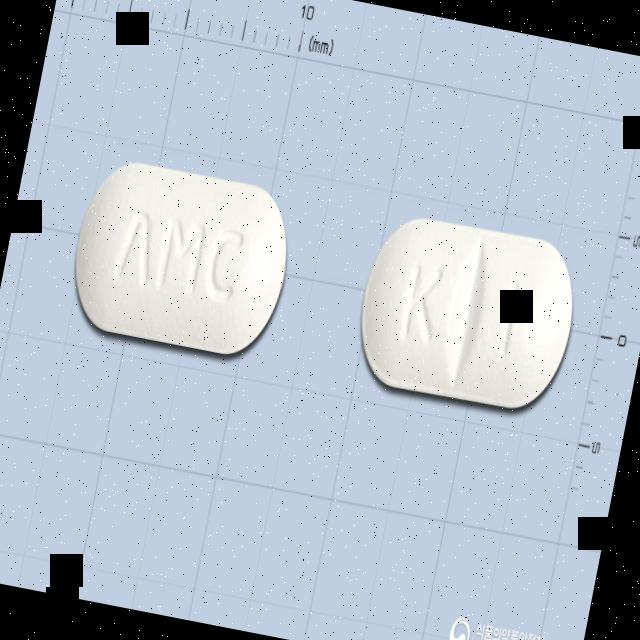Amocla Duo: (60, 150, 302, 372), (347, 208, 586, 422)
